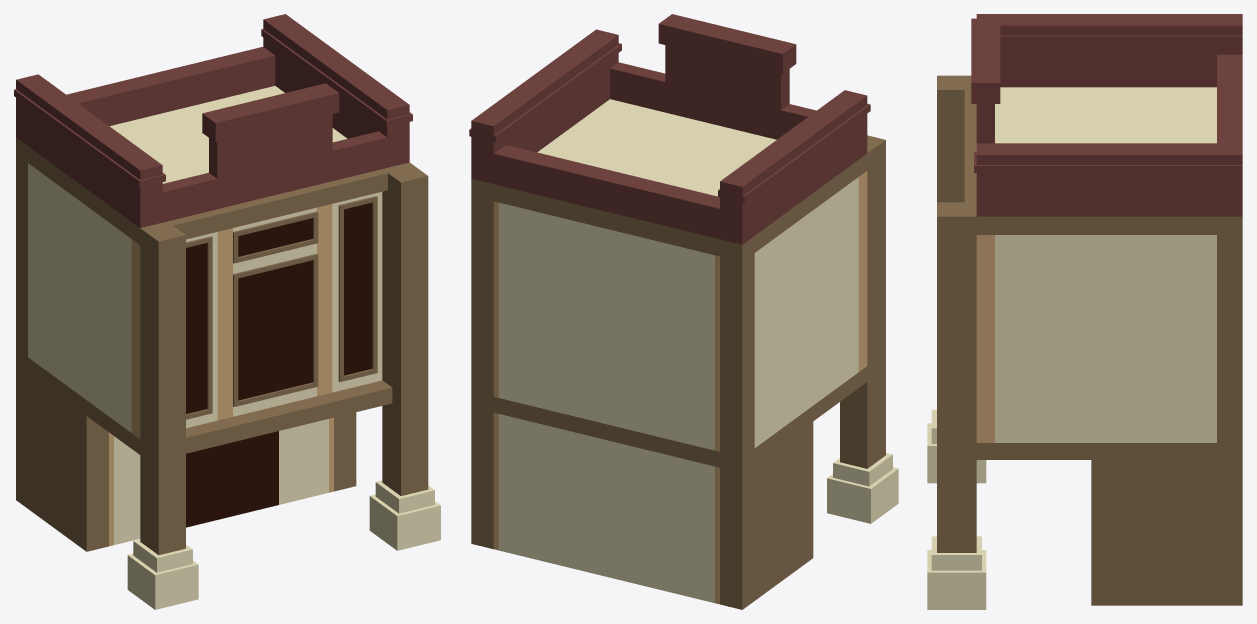
File: HOUSE_01.fbx
3 renders of one model, left to right at view 1: azimuth 30°, elevation 25°; view 2: azimuth 150°, elevation 25°; view 3: azimuth 270°, elevation 25°, orthographic. The views are drawn at different scales.
Parts seen in each view (by area): view 1: H2.001; view 2: H2.001; view 3: H2.001.
Boxes of the visible parts, x1,y1,x2,y2 form: H2.001: (14,14,440,609); H2.001: (469,14,898,609); H2.001: (927,14,1242,609).
Bounding box in the file's own units: 407 × 615 × 363.
